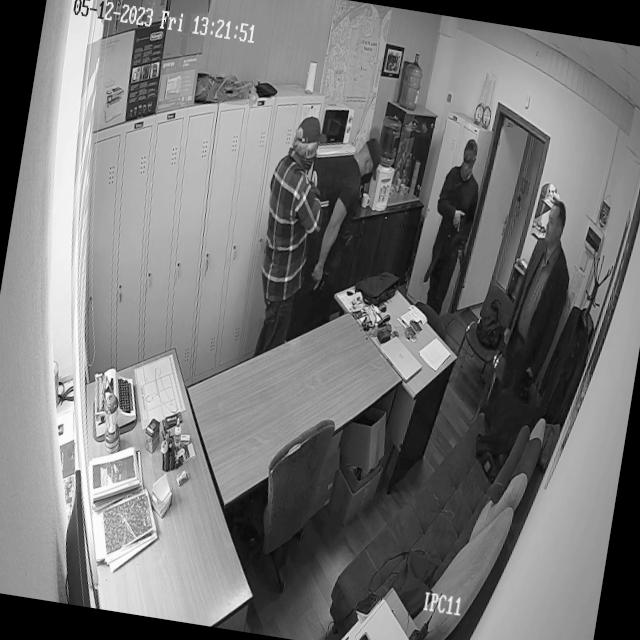gun: (440, 202, 484, 293)
person with a gun: (419, 132, 500, 345)
